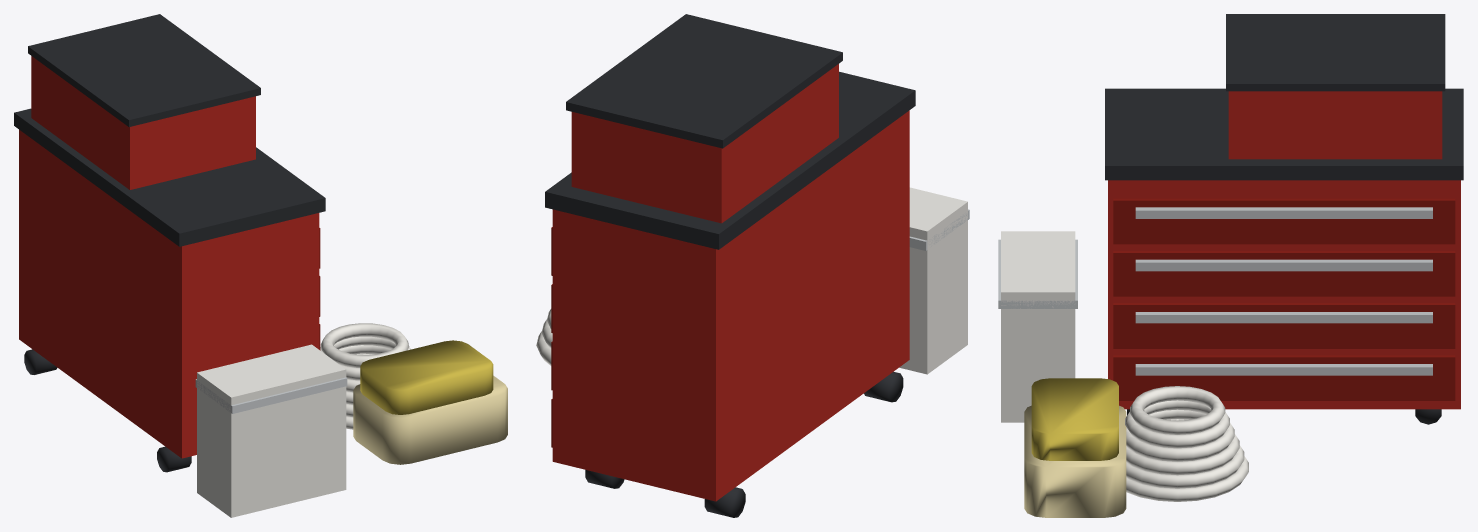
File: garage_tool_chest.glb
3 views of the same model, side by side, from view 1: azimuth 30°, elevation 25°; view 2: azimuth 150°, elevation 25°; view 3: azimuth 270°, elevation 25° (orthographic). The views are drawn at different scales.
Parts seen in each view (by area): view 1: root; view 2: root; view 3: root.
Part boxes in pixels (left/top/right/bottom): root: left=14, top=14, right=507, bottom=517; root: left=536, top=14, right=969, bottom=517; root: left=998, top=14, right=1463, bottom=517.
Size of the model in its own units: 1.23 by 1.26 by 1.53.
